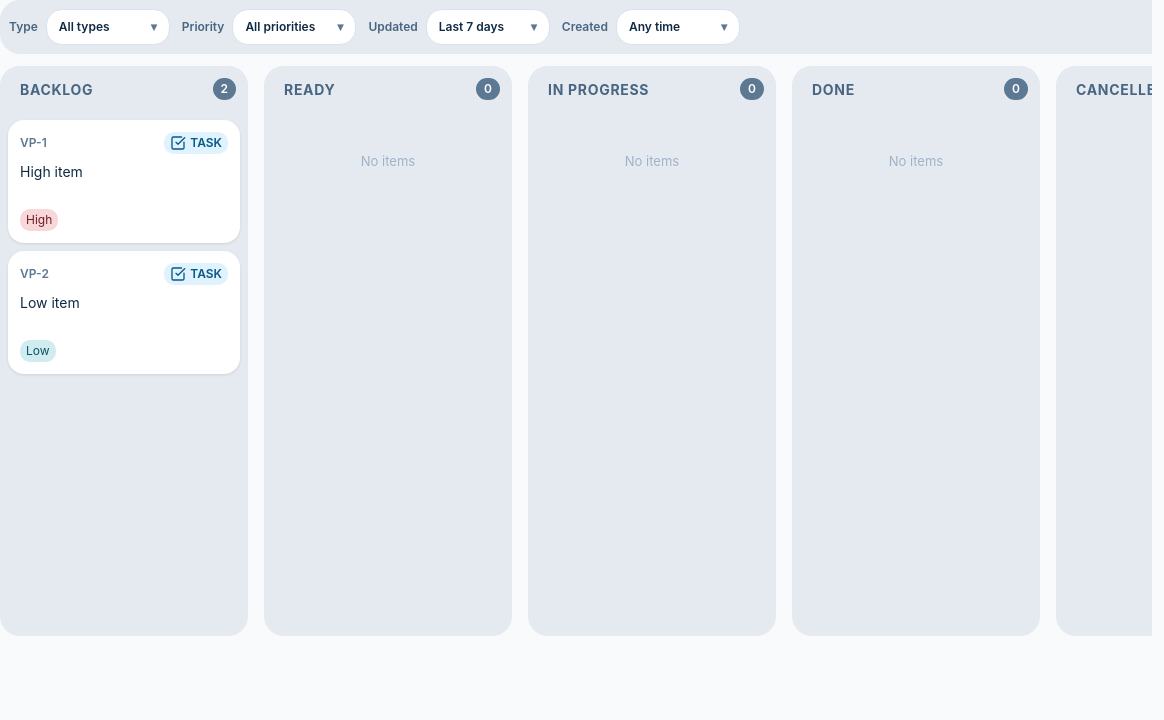
Test: KanbanBoard › board filters › filters cards by priority
Expected: the text "High item" is shown, [20,163,83,180]
Click the button with aria-label "Priority:" at point(294, 27), box [232,9,356,45]
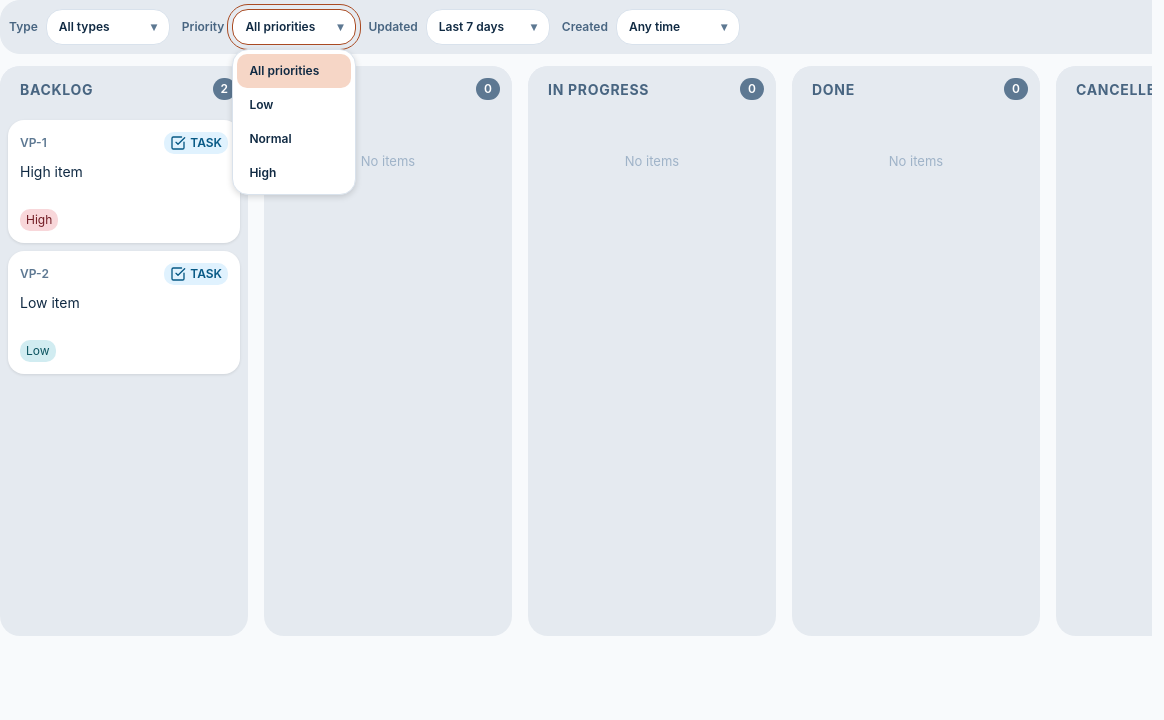
Click the option "High" at point(294, 173), box [237,156,351,190]
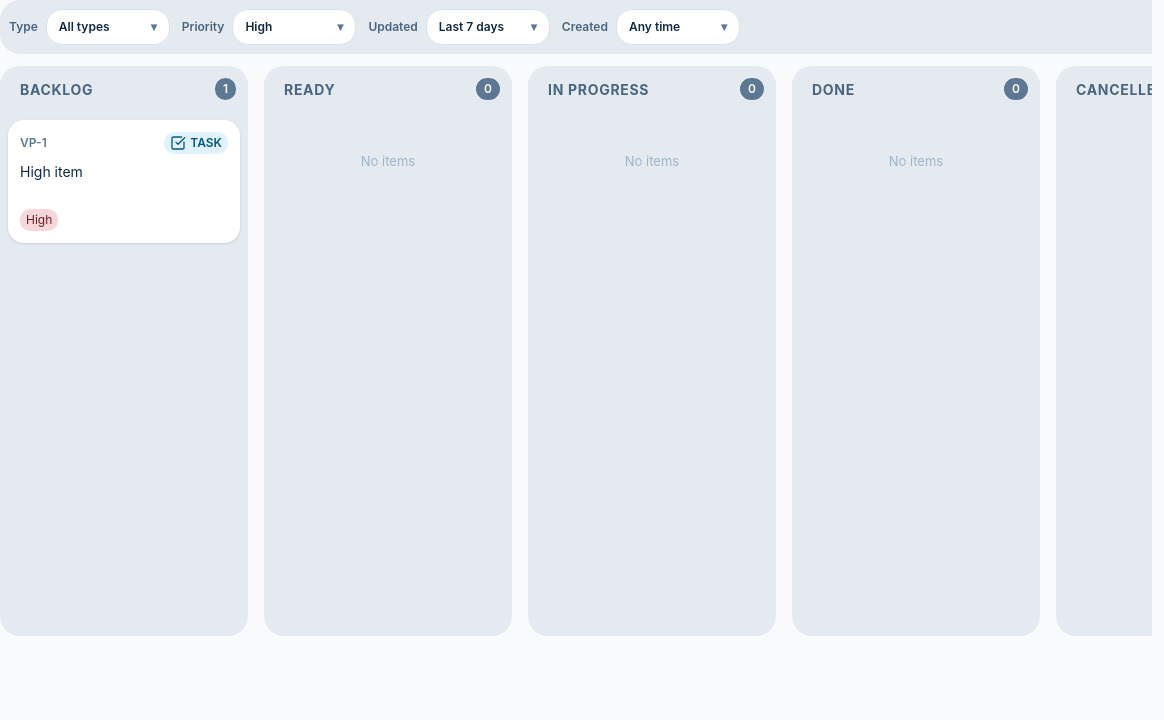
Expected: the text "High item" is shown, [20,163,83,180]
Now the button "Low item" is gone
